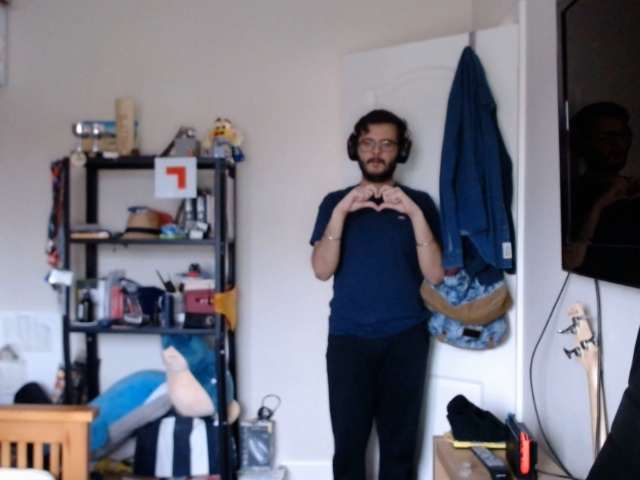Heart: (356, 179, 407, 218)
